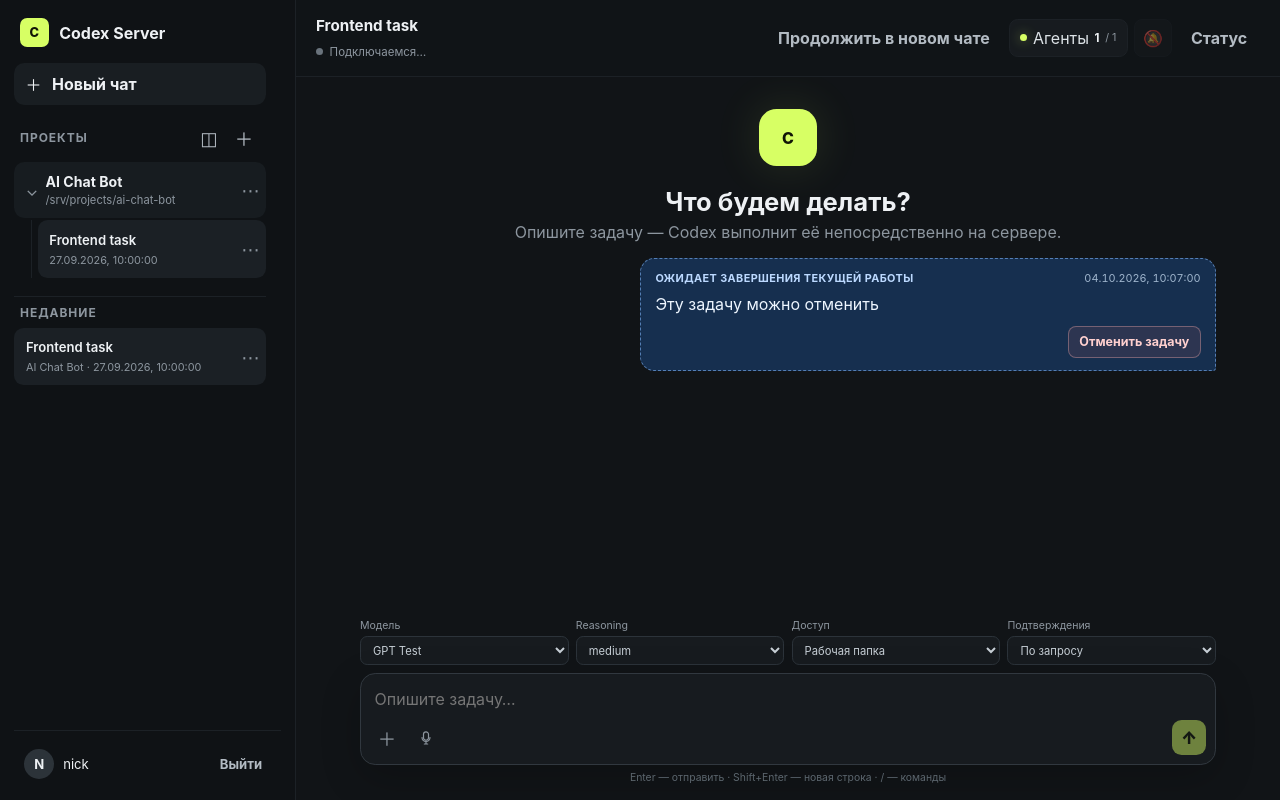
Test: App › cancels a queued task once, exposes the pending state, and removes the card
This screenshot has width=1280, height=800.
Step 1. Click the button "Отменить задачу" → (1134, 342), box [1068,326,1201,358]
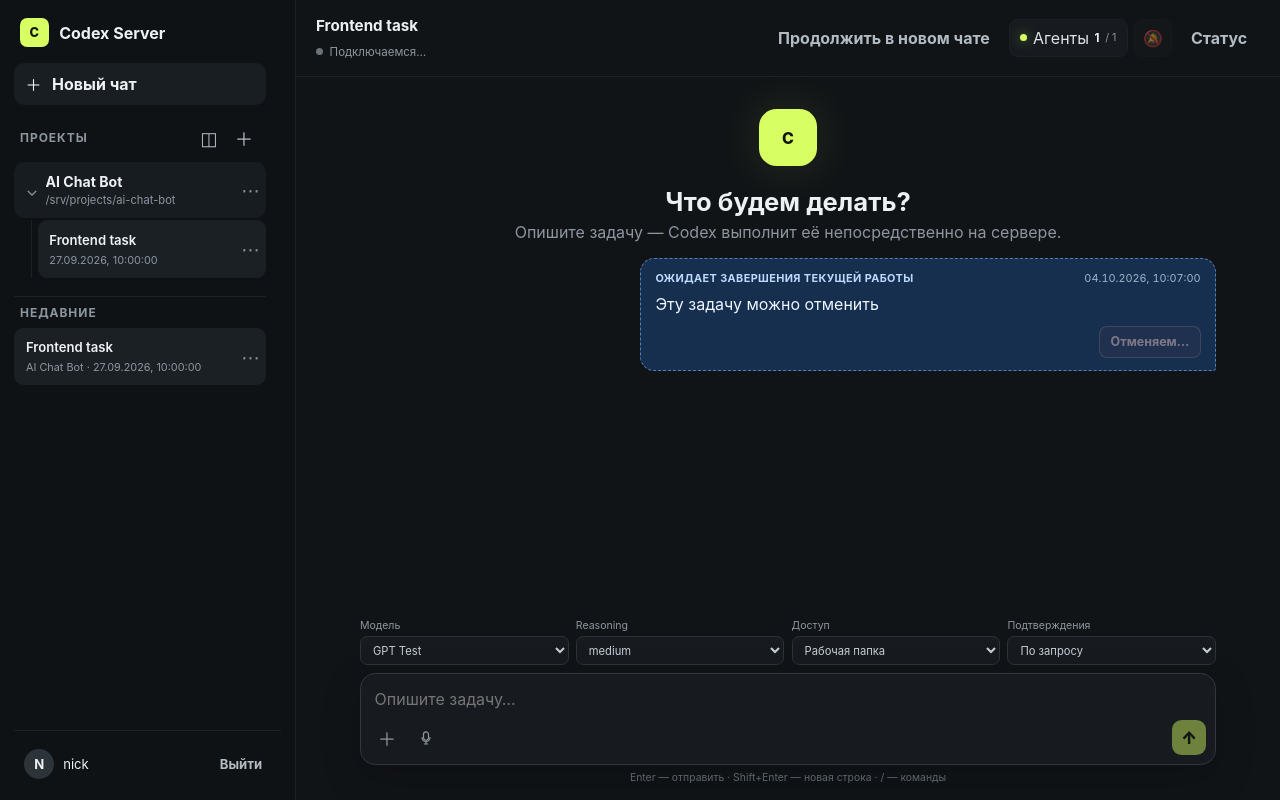
Check: the button "Отменяем…" is disabled
Step 2. Click the button "Отменяем…" → (1150, 342), box [1099,326,1201,358]
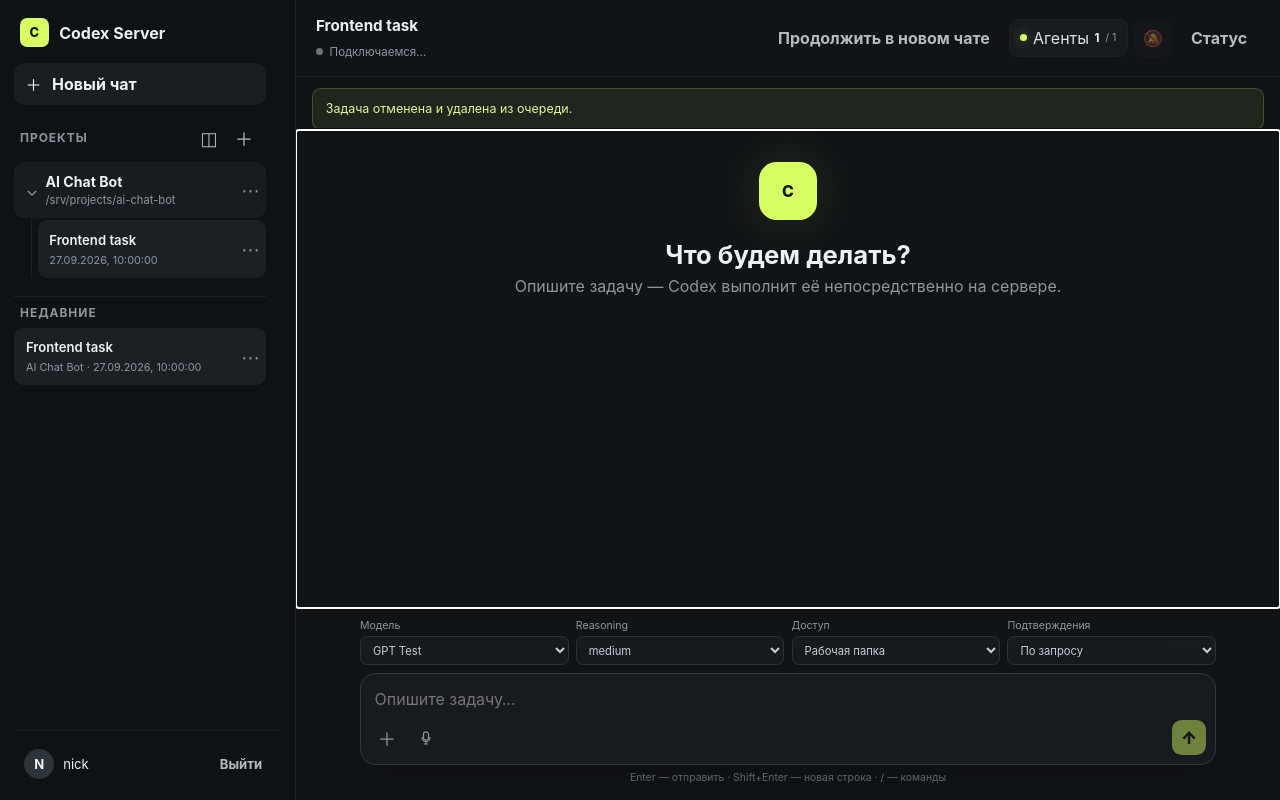
Check: the text "Задача отменена и удалена из очереди." is shown, box [326,100,572,118]
